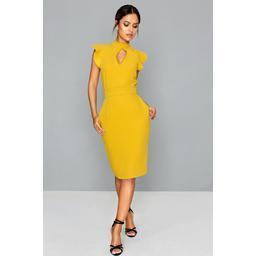dress: (90, 41, 150, 179)
